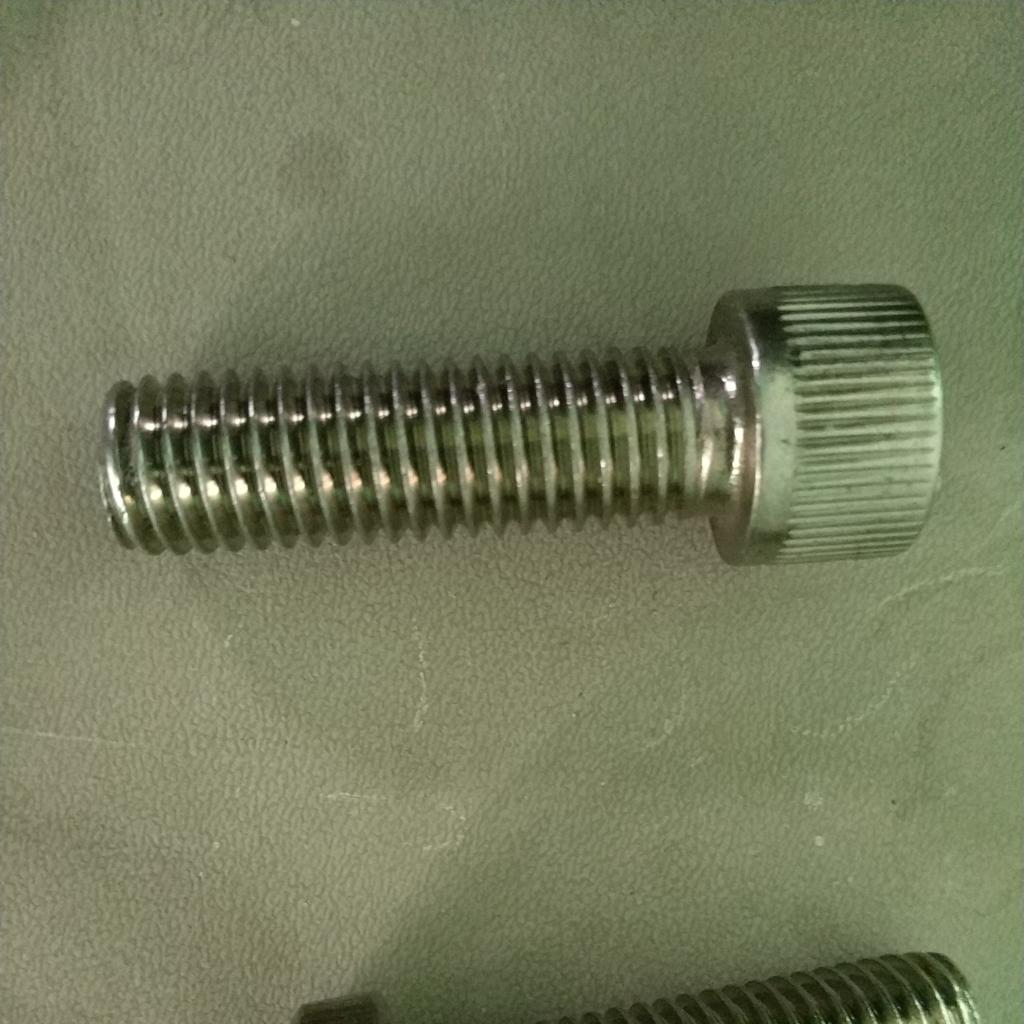screwtype1silver: (85, 275, 944, 581)
